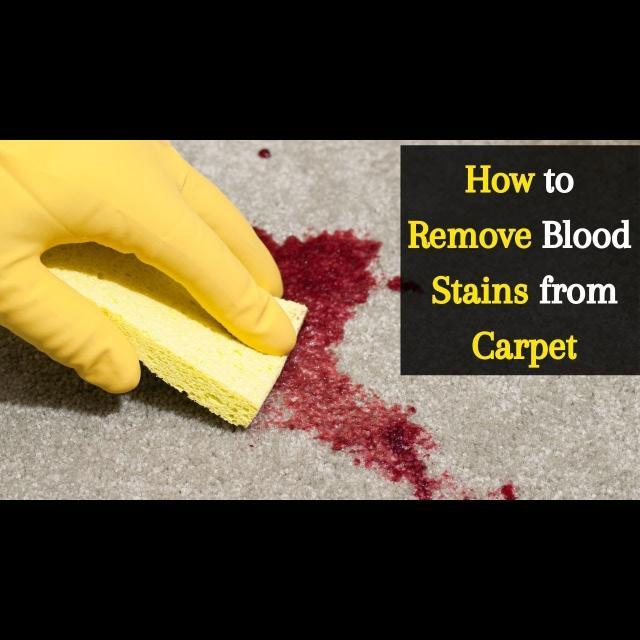blood: (253, 226, 444, 500), (488, 480, 518, 499), (386, 275, 400, 292)
